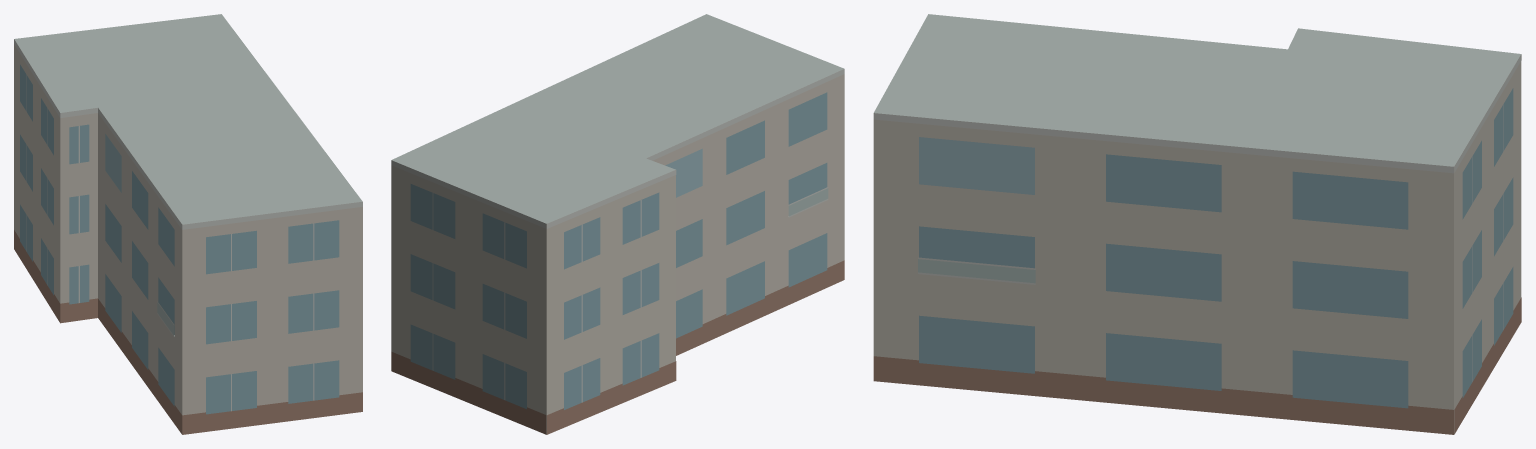
Rendered from survey-upis-32541035.glb.
3 views of the same model, side by side, from view 1: azimuth 30°, elevation 25°; view 2: azimuth 150°, elevation 25°; view 3: azimuth 270°, elevation 25° (orthographic). The views are drawn at different scales.
Visible parts, largest first — view 1: survey-upis-32541035.tmp; view 2: survey-upis-32541035.tmp; view 3: survey-upis-32541035.tmp.
Boxes of the visible parts, x1,y1,x2,y2 form: survey-upis-32541035.tmp: (14,14,362,434); survey-upis-32541035.tmp: (391,14,844,434); survey-upis-32541035.tmp: (873,14,1521,434).
Bounding box in the file's own units: 12.23 × 10 × 21.91.
